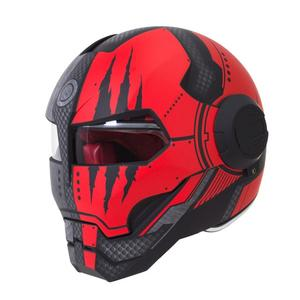with_helmet: (46, 25, 270, 281)
